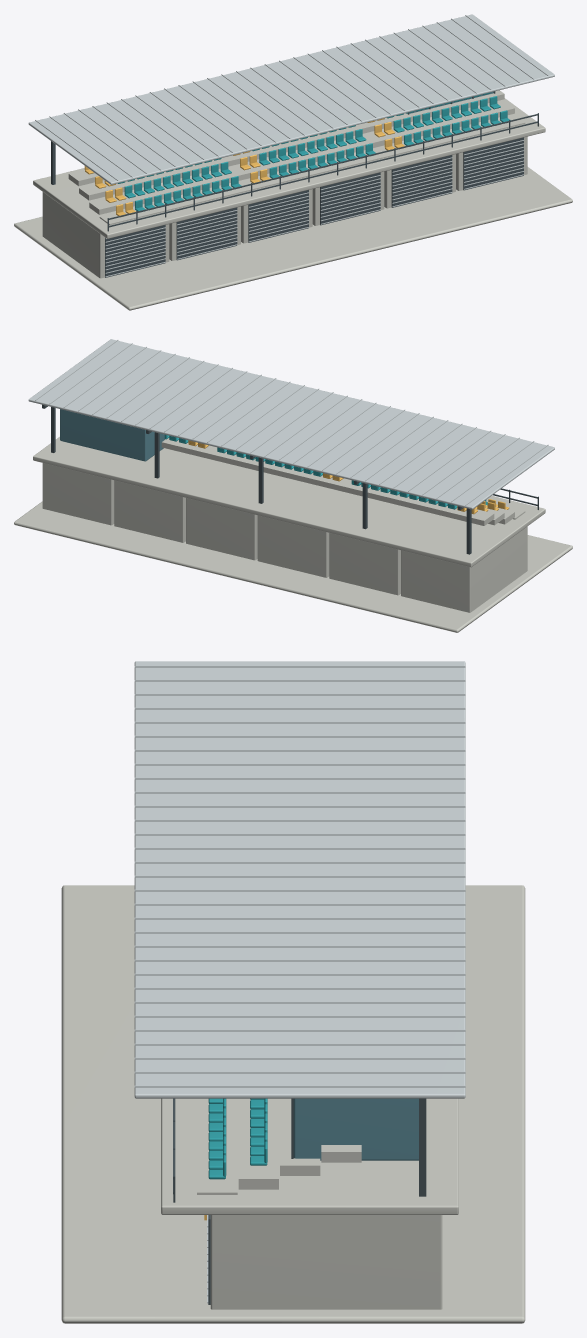
The model's file is pavilion.glb.
3 renders of one model, top to bottom at view 1: azimuth 30°, elevation 25°; view 2: azimuth 150°, elevation 25°; view 3: azimuth 270°, elevation 25°, orthographic. The views are drawn at different scales.
Visible parts, largest first — view 1: Floating canopy, Foundation apron, Viewing terrace slab, Grandstand terrace 1, Grandstand terrace 0, Pit bay concrete shell 0, Grandstand terrace 2, Garage shutter 1, Garage shutter 4, Garage shutter 3, Garage shutter 5, Garage shutter 0 (+8 smaller); view 2: Floating canopy, Viewing terrace slab, Foundation apron, Pit bay concrete shell 0, Grandstand terrace 3, Pit bay concrete shell 5, Pit bay concrete shell 2, Pit bay concrete shell 4, Pit bay concrete shell 1, Pit bay concrete shell 3, Timing suite; view 3: Floating canopy, Foundation apron, Pit bay concrete shell 5, Viewing terrace slab, Timing suite, Grandstand terrace 1, Grandstand terrace 0, Grandstand terrace 2, Roof standing seam.003, Roof standing seam.004, Roof standing seam.005, Roof standing seam.006 (+24 smaller).
Part boxes in pixels (box(x1,y1,x2,y2)): Floating canopy: box(28, 14, 554, 184); Foundation apron: box(14, 167, 572, 310); Viewing terrace slab: box(33, 98, 545, 238); Grandstand terrace 1: box(89, 101, 514, 214); Grandstand terrace 0: box(99, 115, 525, 225); Pit bay concrete shell 0: box(42, 192, 169, 278); Grandstand terrace 2: box(79, 90, 504, 200); Garage shutter 1: box(176, 207, 237, 260); Garage shutter 4: box(391, 155, 452, 207); Garage shutter 3: box(320, 172, 380, 225); Garage shutter 5: box(463, 137, 523, 190); Garage shutter 0: box(105, 225, 165, 277); Floating canopy: box(28, 339, 554, 509); Viewing terrace slab: box(33, 437, 545, 567); Foundation apron: box(14, 501, 572, 632); Pit bay concrete shell 0: box(401, 526, 527, 612); Grandstand terrace 3: box(161, 438, 494, 525); Pit bay concrete shell 5: box(42, 463, 114, 525); Pit bay concrete shell 2: box(257, 515, 329, 577); Pit bay concrete shell 4: box(114, 480, 185, 542); Pit bay concrete shell 1: box(329, 533, 400, 595); Pit bay concrete shell 3: box(186, 498, 257, 560); Timing suite: box(60, 409, 165, 461); Floating canopy: box(134, 661, 465, 1098); Foundation apron: box(61, 885, 525, 1323); Pit bay concrete shell 5: box(210, 1215, 442, 1309); Viewing terrace slab: box(161, 1098, 458, 1214); Timing suite: box(293, 1098, 418, 1160); Grandstand terrace 1: box(238, 1098, 278, 1189); Grandstand terrace 0: box(197, 1098, 237, 1194); Grandstand terrace 2: box(280, 1098, 320, 1175); Roof standing seam.003: box(134, 707, 465, 709); Roof standing seam.004: box(134, 721, 465, 723); Roof standing seam.005: box(134, 735, 465, 737); Roof standing seam.006: box(134, 749, 465, 751).
Size of the model in its own units: 31 by 7.73 by 14.
